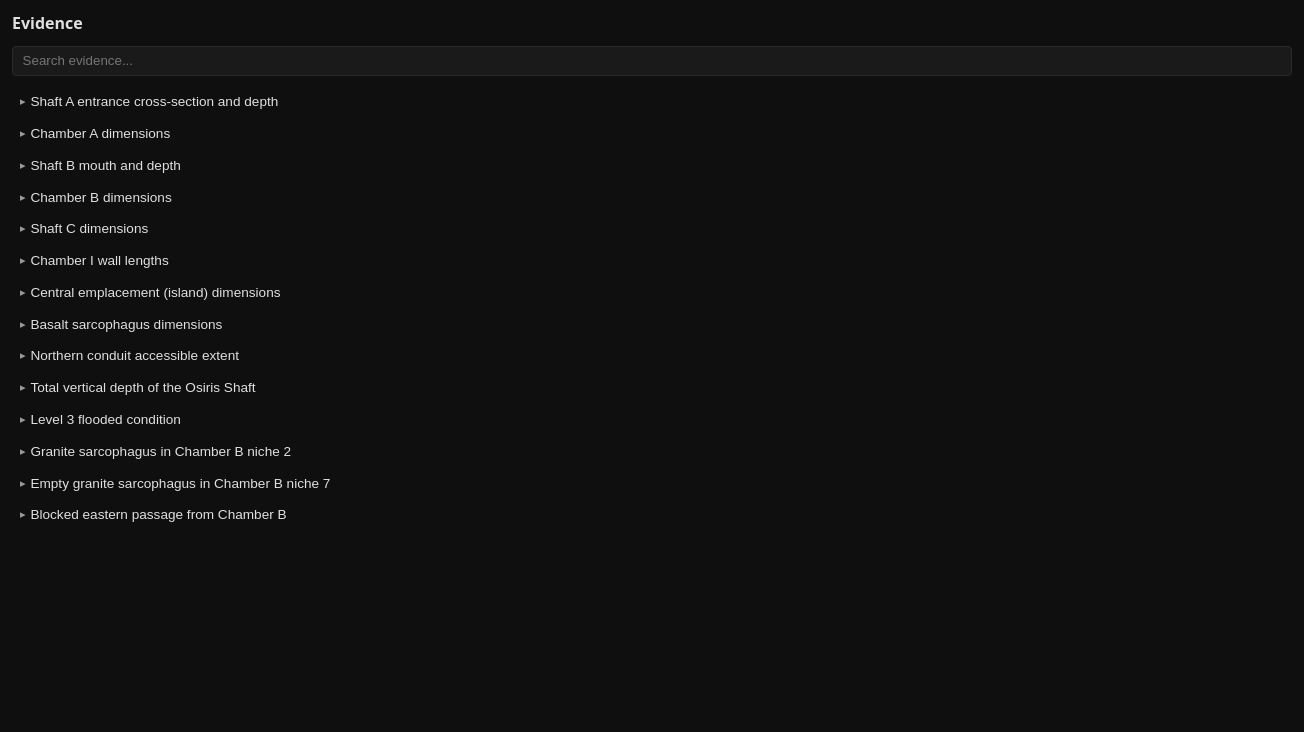
Scenario: EvidencePanel › shows evidence details on click
Click the button "Shaft A entrance cross-section and depth" at (154, 102), box 12,88 -> 1292,116
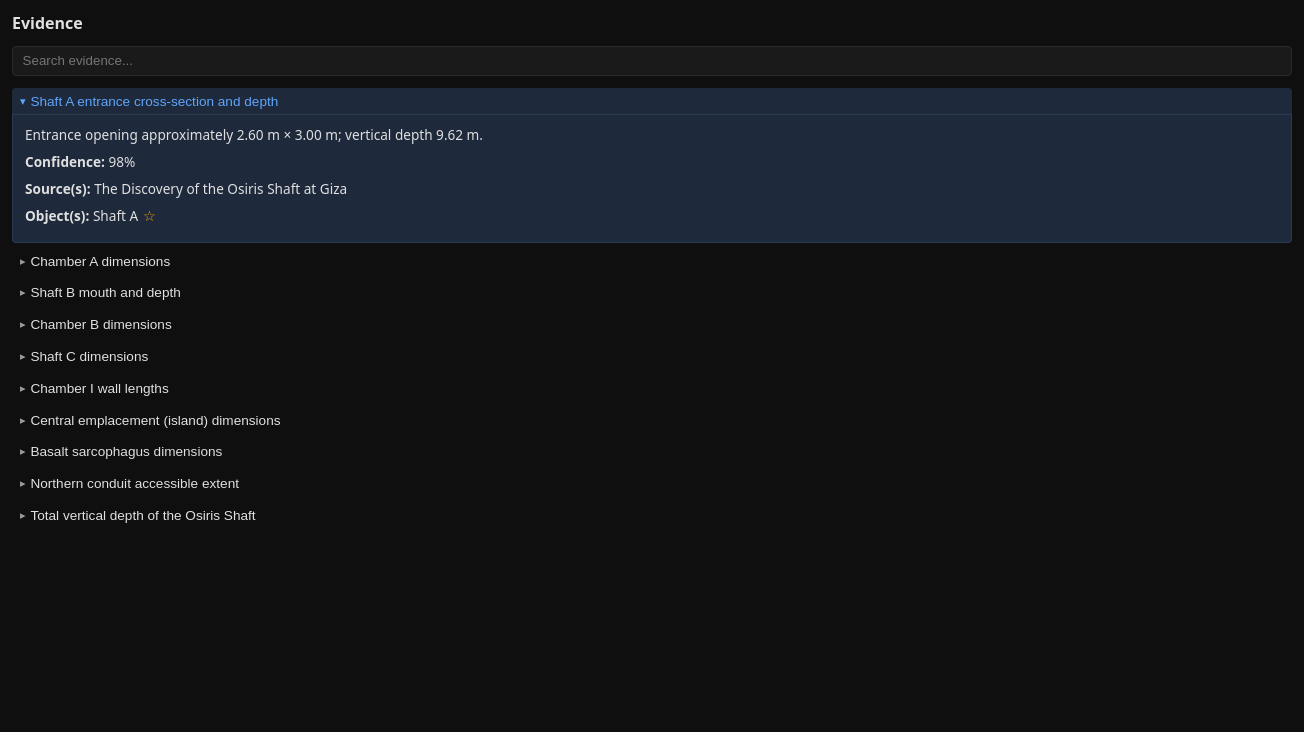
Check: the text "Entrance opening approximately" is shown, box 25,125 -> 483,144
